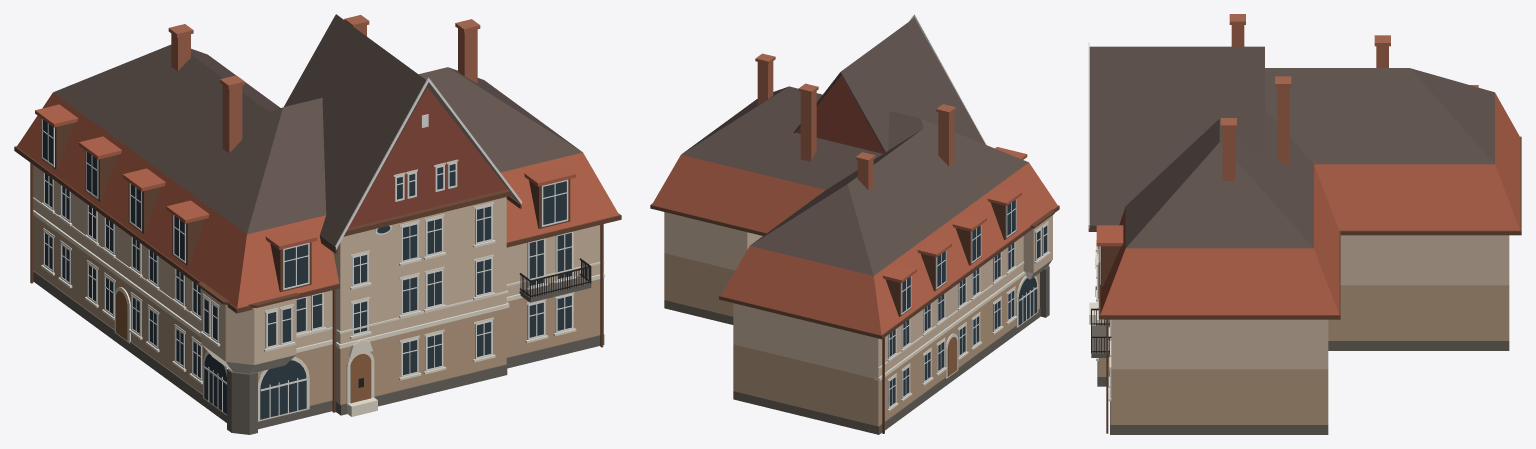
The model's file is corner_newest.glb.
3 renders of one model, left to right at view 1: azimuth 30°, elevation 25°; view 2: azimuth 150°, elevation 25°; view 3: azimuth 270°, elevation 25°, orthographic. The views are drawn at different scales.
Parts seen in each view (by area): view 1: Corner_Building; view 2: Corner_Building; view 3: Corner_Building.
Boxes of the visible parts, x1,y1,x2,y2 form: Corner_Building: (14,14,621,434); Corner_Building: (650,14,1059,434); Corner_Building: (1088,14,1521,434).
Size of the model in its own units: 23.58 by 18.62 by 23.95.
